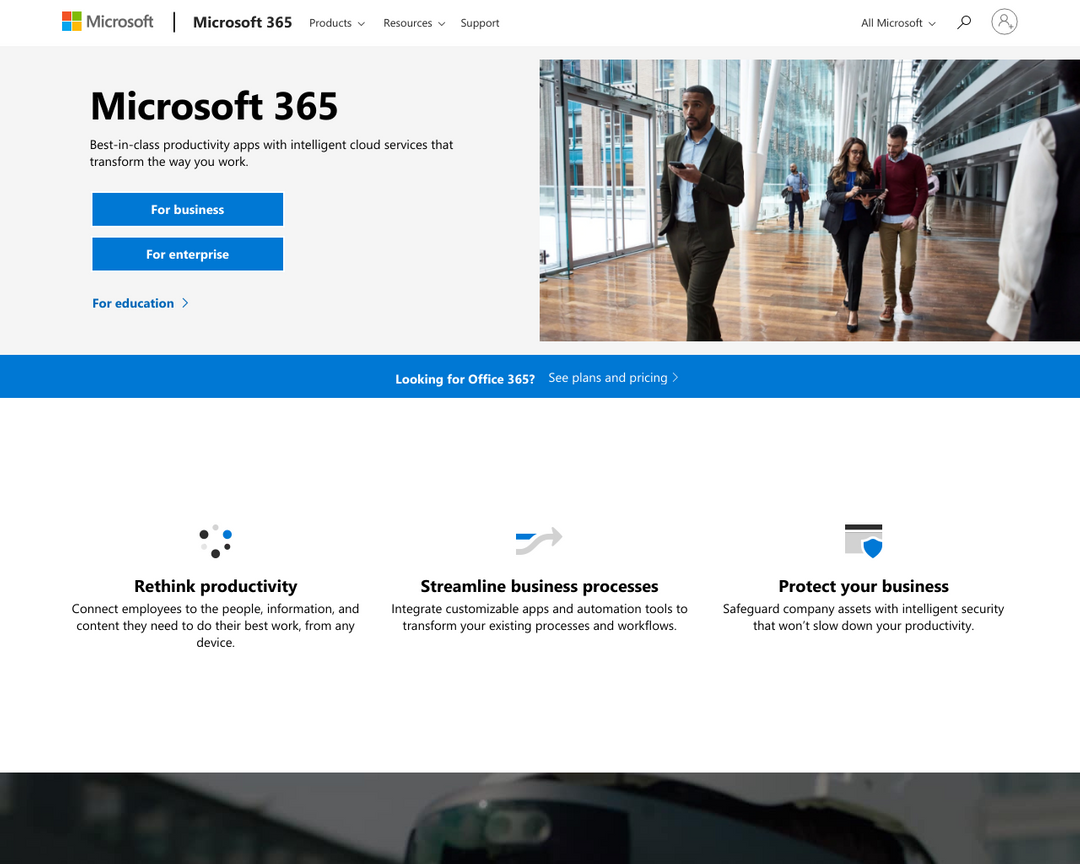Microsoft: (55, 5, 89, 35)
